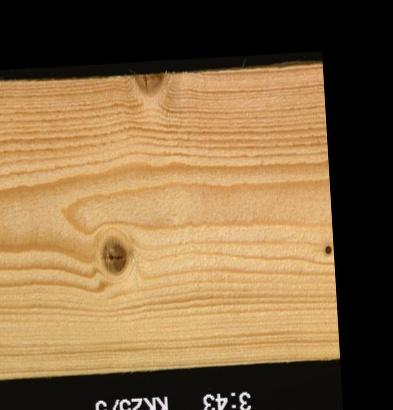dry_knot: (322, 243, 332, 256)
edge_knot: (129, 69, 171, 99)
sound_knot: (96, 235, 129, 277)
